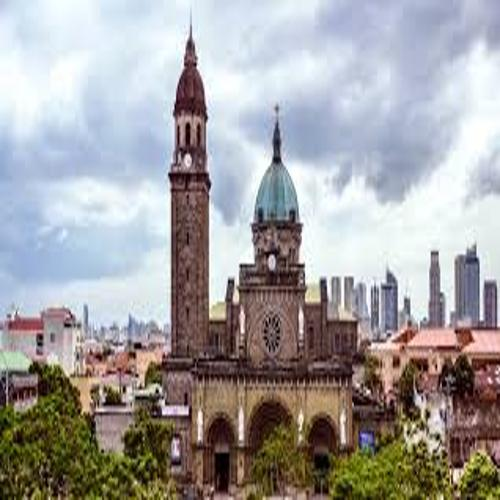Manila Cathedral Church: (128, 6, 361, 491)
